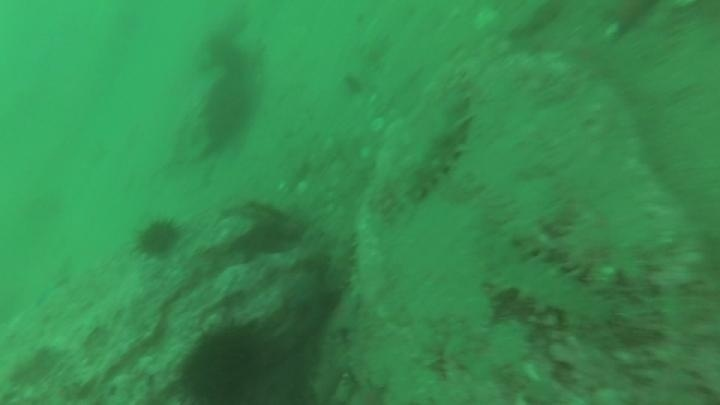echinus: (176, 322, 269, 404), (132, 215, 183, 260)
holothurian: (395, 88, 477, 211), (482, 255, 616, 330), (321, 231, 361, 301)
starfish: (324, 288, 366, 342)
